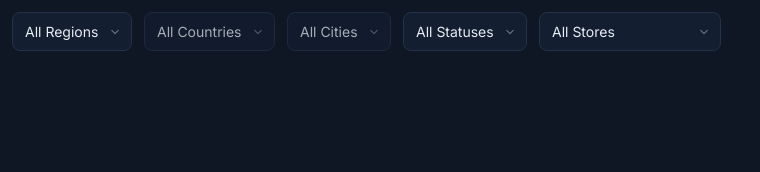
Test case: Filter Data Consistency Tests › Requirement 2.1 & 3.1: Cascading filter behavior › should enable country dropdown when region is selected
This screenshot has width=760, height=172.
Select "EMEA" in the 1st dropdown showing "All Regions": (72, 32) [12, 12, 132, 51]
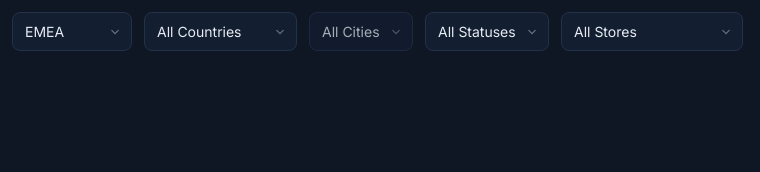
Expected: the 2nd dropdown showing "All Countries" is enabled, [144, 12, 297, 51]
